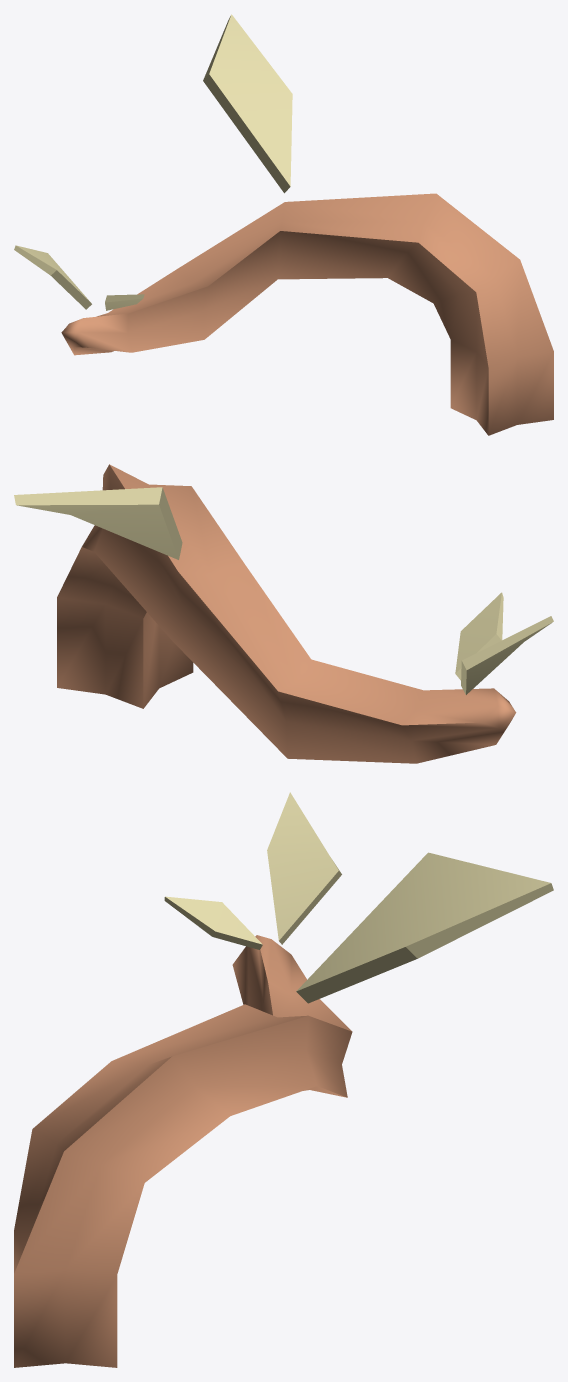
File: starPlant_stage1.fbx
3 views of the same model, one above another, from view 1: azimuth 30°, elevation 25°; view 2: azimuth 150°, elevation 25°; view 3: azimuth 270°, elevation 25° (orthographic). The views are drawn at different scales.
Parts seen in each view (by area): view 1: sprout_starPlant_stem, sprout_starPlant_leaf01, sprout_starPlant_leaf02; view 2: sprout_starPlant_stem, sprout_starPlant_leaf01, sprout_starPlant_leaf02, sprout_starPlant_leaf03; view 3: sprout_starPlant_stem, sprout_starPlant_leaf01, sprout_starPlant_leaf02, sprout_starPlant_leaf03.
Part boxes in pixels (x1,y1,x2,y2): sprout_starPlant_stem: (61,193,553,435); sprout_starPlant_leaf01: (203,14,292,193); sprout_starPlant_leaf02: (14,245,91,309); sprout_starPlant_stem: (57,464,516,763); sprout_starPlant_leaf01: (14,487,182,559); sprout_starPlant_leaf02: (461,616,553,694); sprout_starPlant_leaf03: (455,592,503,680); sprout_starPlant_stem: (14,935,352,1367); sprout_starPlant_leaf01: (296,852,553,1003); sprout_starPlant_leaf02: (267,792,341,944); sprout_starPlant_leaf03: (164,896,262,949).
Bounding box in the file's own units: 4.1 × 2.61 × 3.19.
